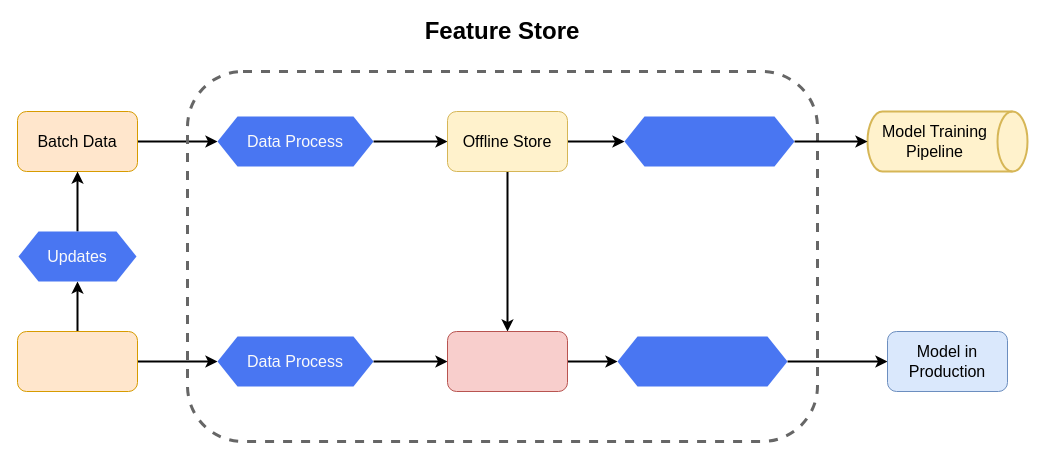
The diagram is 1046 pixels wide and 460 high, and some of its shapes have lost their labels. The centre of each missing label's shape, as x and y in pixels:
"Constant Stream" goes at (702,361).
"Feature Selection" goes at (709,141).
"Online Store" goes at (507,361).
"Real-Time Data" goes at (77,361).
